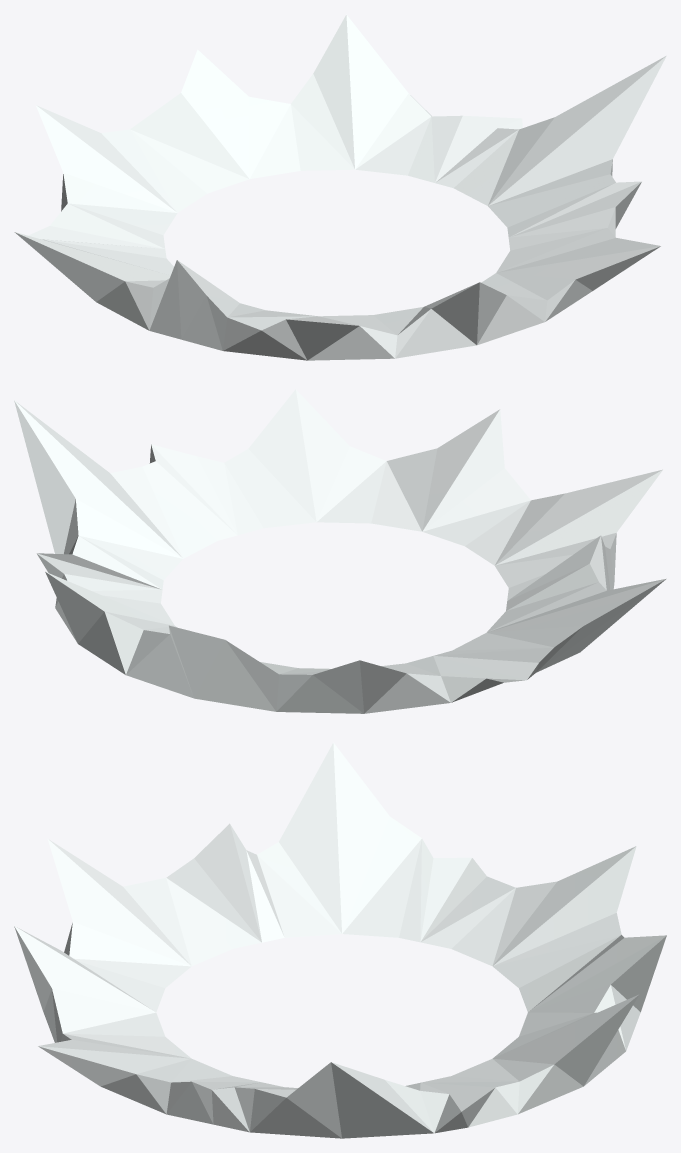
Rendered from fury_flicker.fbx.
The picture shows the model from 3 angles, top to bottom: view 1: azimuth 30°, elevation 25°; view 2: azimuth 150°, elevation 25°; view 3: azimuth 270°, elevation 25°; orthographic projection. The views are drawn at different scales.
Visible parts, largest first — view 1: fury_flicker; view 2: fury_flicker; view 3: fury_flicker.
Part boxes in pixels (left/top/right/bottom): fury_flicker: left=14, top=14, right=666, bottom=360; fury_flicker: left=14, top=389, right=666, bottom=713; fury_flicker: left=14, top=742, right=666, bottom=1138.
Bounding box in the file's own units: 7.04 × 1.18 × 5.73.
1 material, 1 textured.
